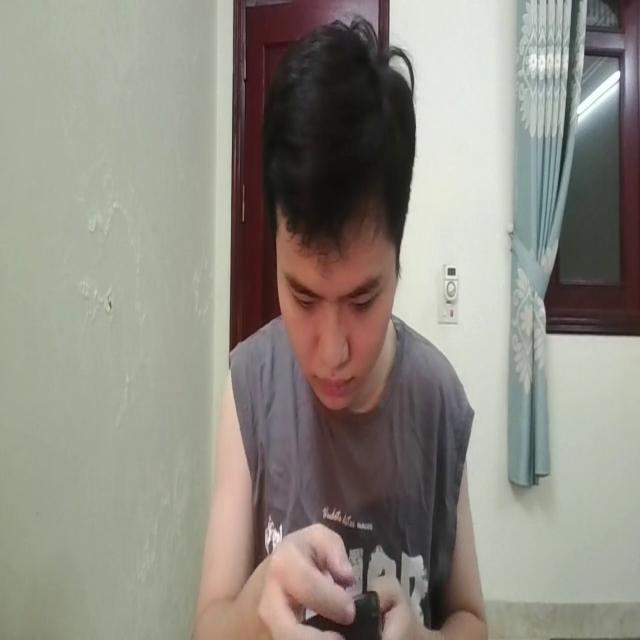phone: (299, 584, 387, 640)
student: (197, 15, 489, 640)
